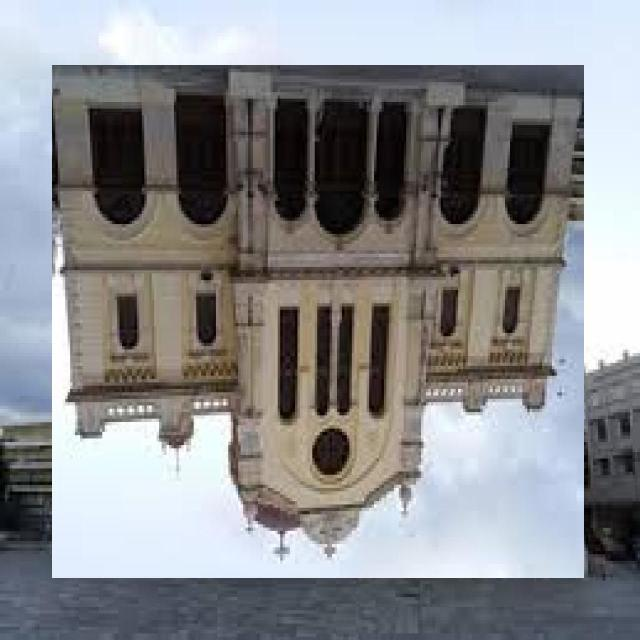Agios Minas: (54, 66, 586, 579)
